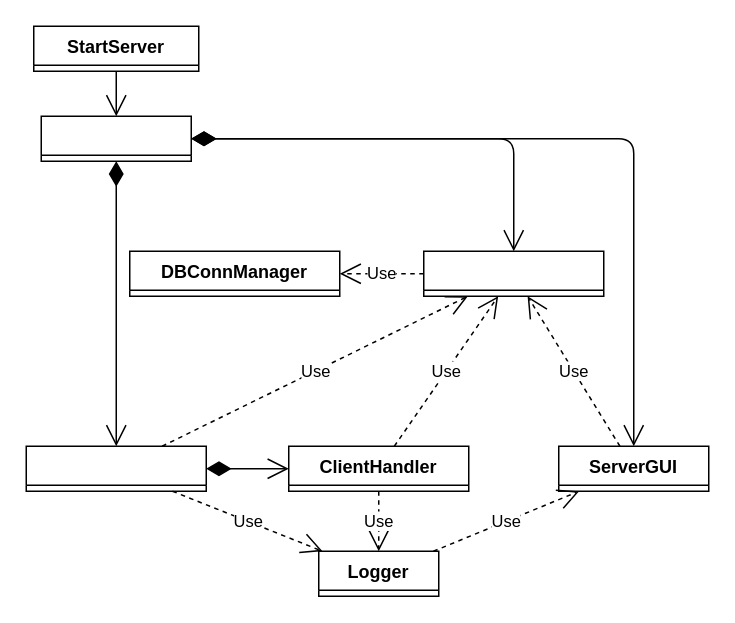
Some shapes in this 735 by 623 pixel diagram are drawn without their labels. The shapes that lost their labels are listed below. From the top down, each one's box as (x1, y1, x2, y2) in pixels, then its label:
(40, 115, 191, 161): ChatServer
(422, 250, 604, 296): DBOperations
(25, 445, 206, 491): ClientManager
